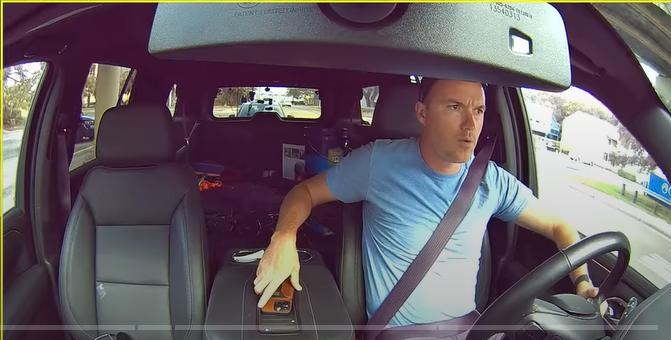seatbelt: (379, 159, 503, 308)
